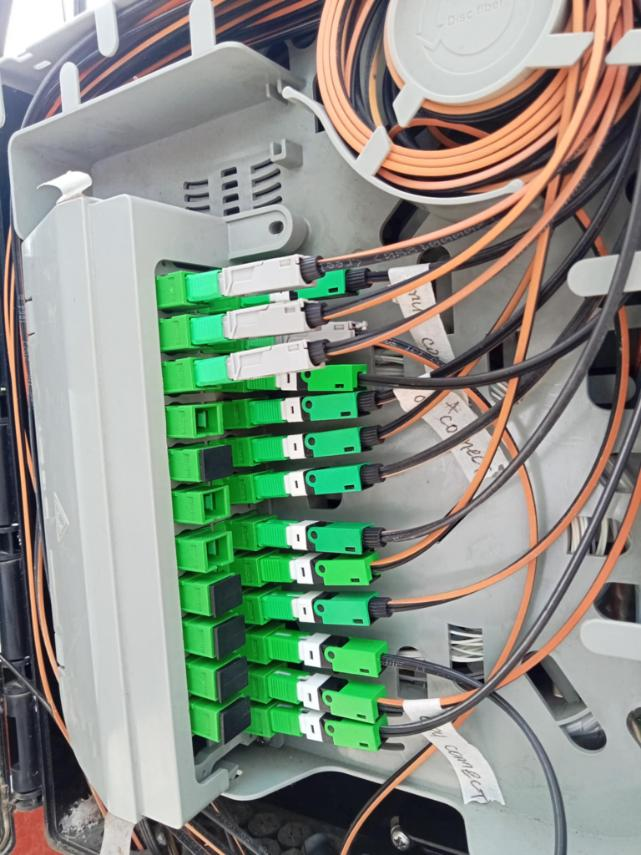no dust cap: (205, 533, 235, 569), (193, 403, 225, 436), (202, 489, 230, 522)
occupied: (193, 295, 330, 344), (196, 334, 333, 383), (188, 251, 325, 299), (268, 629, 390, 679), (265, 670, 387, 720), (240, 265, 375, 307), (267, 709, 393, 754), (250, 422, 381, 464), (253, 459, 384, 501), (257, 517, 394, 557), (249, 387, 379, 429), (264, 589, 394, 624), (258, 550, 384, 586), (246, 317, 369, 352), (245, 363, 370, 394)
vacant: (220, 698, 252, 744), (214, 614, 246, 659), (210, 574, 242, 618), (217, 659, 249, 703), (200, 447, 233, 481)
